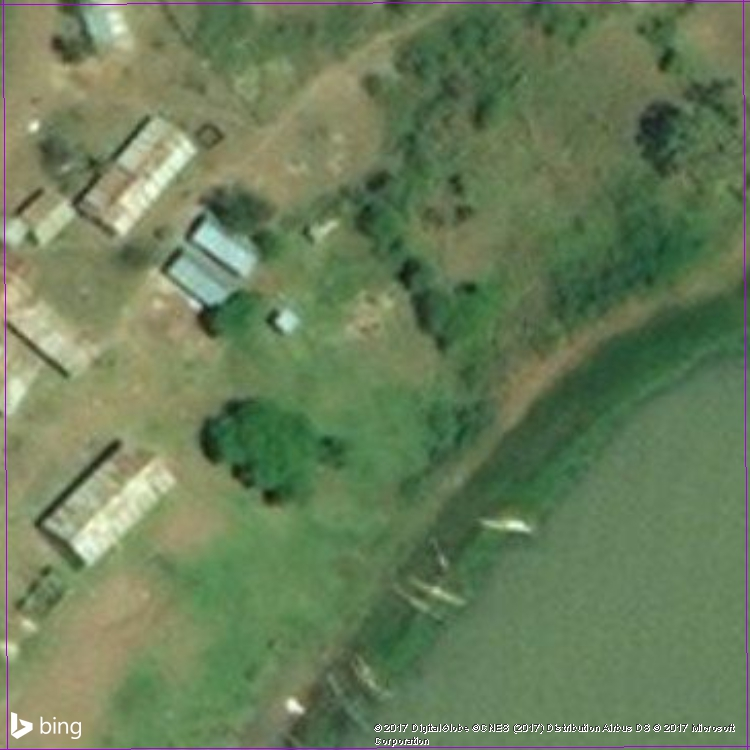boat: (317, 665, 379, 739), (382, 579, 458, 633), (337, 645, 394, 703), (404, 571, 476, 613), (470, 511, 544, 540), (420, 531, 458, 580)
